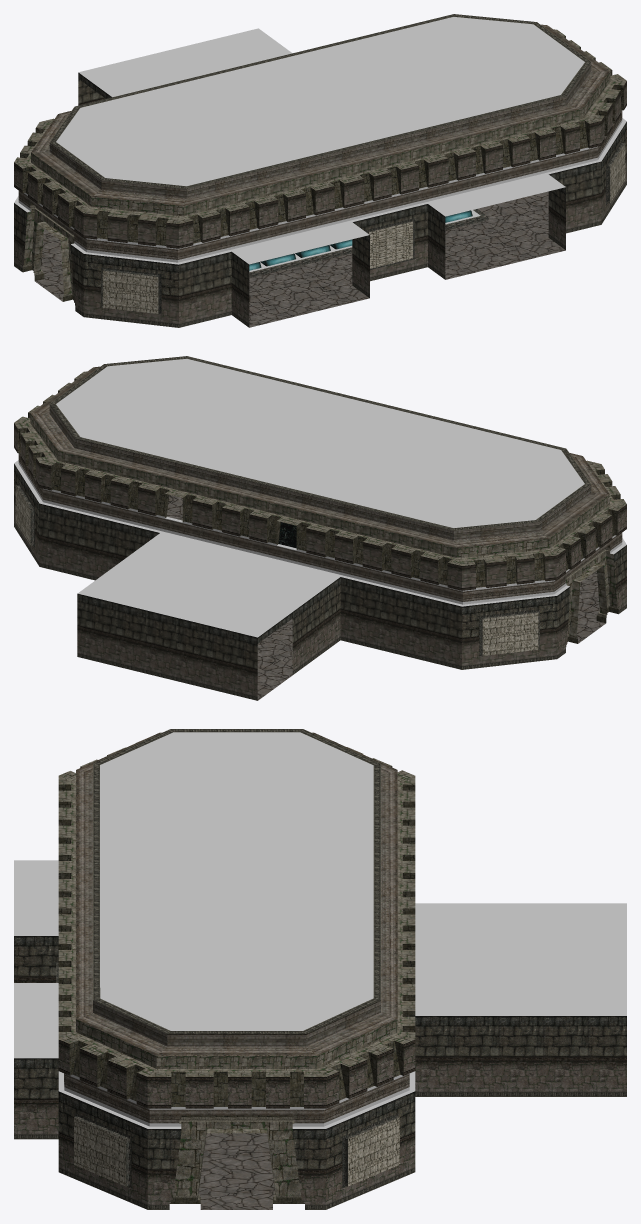
Rendered from thm_yavn_temple_exar_kun_r11_mesh_r11.fbx.
3 views of the same model, one above another, from view 1: azimuth 30°, elevation 25°; view 2: azimuth 150°, elevation 25°; view 3: azimuth 270°, elevation 25° (orthographic). The views are drawn at different scales.
Visible parts, largest first — view 1: mesh_node; view 2: mesh_node; view 3: mesh_node.
Part boxes in pixels (x1,y1,x2,y2): mesh_node: [14, 14, 626, 327]; mesh_node: [14, 356, 626, 700]; mesh_node: [14, 729, 626, 1209].
Size of the model in its own units: 36 by 7.85 by 27.5.
